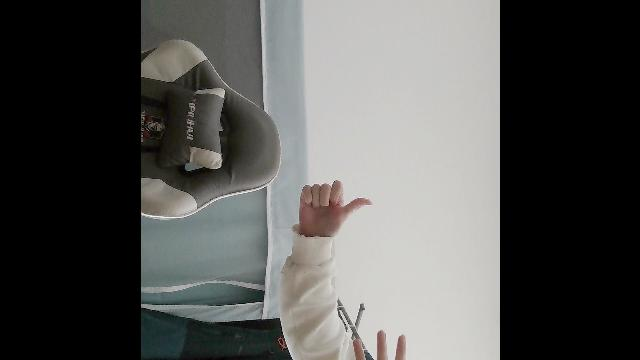good: (293, 181, 376, 240)
three: (350, 326, 411, 360)
